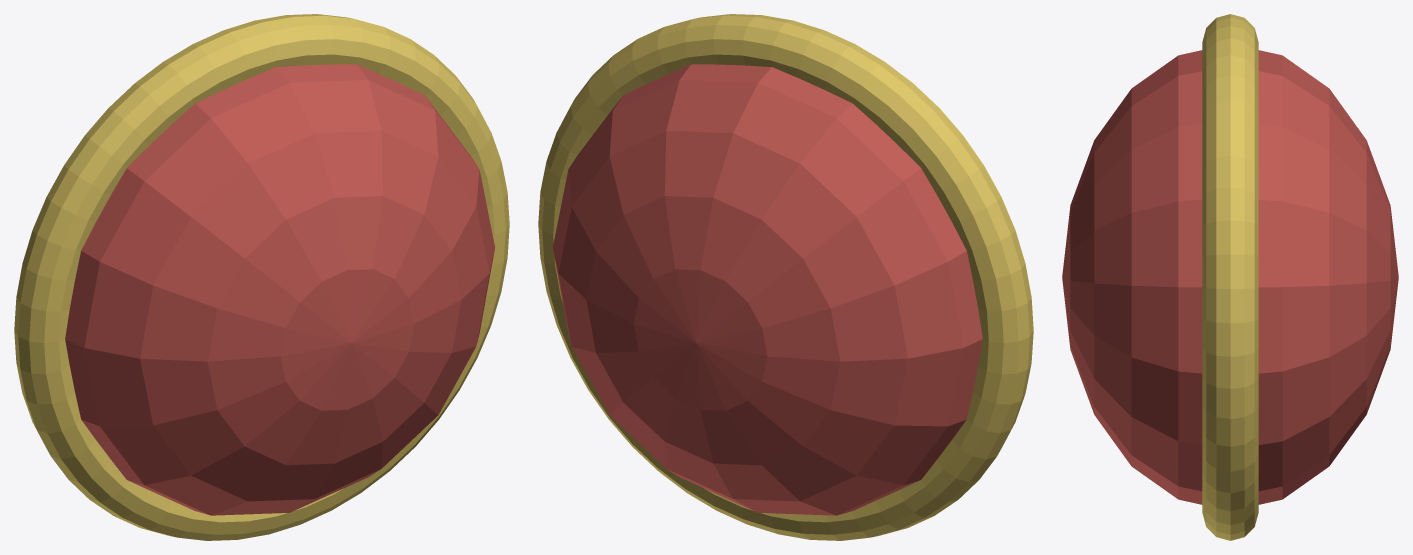
Rendered from leonidas_hat_helmet.fbx.
3 renders of one model, left to right at view 1: azimuth 30°, elevation 25°; view 2: azimuth 150°, elevation 25°; view 3: azimuth 270°, elevation 25°, orthographic. The views are drawn at different scales.
Parts seen in each view (by area): view 1: Hat_helmet; view 2: Hat_helmet; view 3: Hat_helmet.
Part boxes in pixels (x1=…): Hat_helmet: x1=14, y1=14, x2=509, y2=540; Hat_helmet: x1=538, y1=14, x2=1033, y2=540; Hat_helmet: x1=1062, y1=14, x2=1398, y2=540.
Bounding box in the file's own units: 56.4 × 56.4 × 36.
